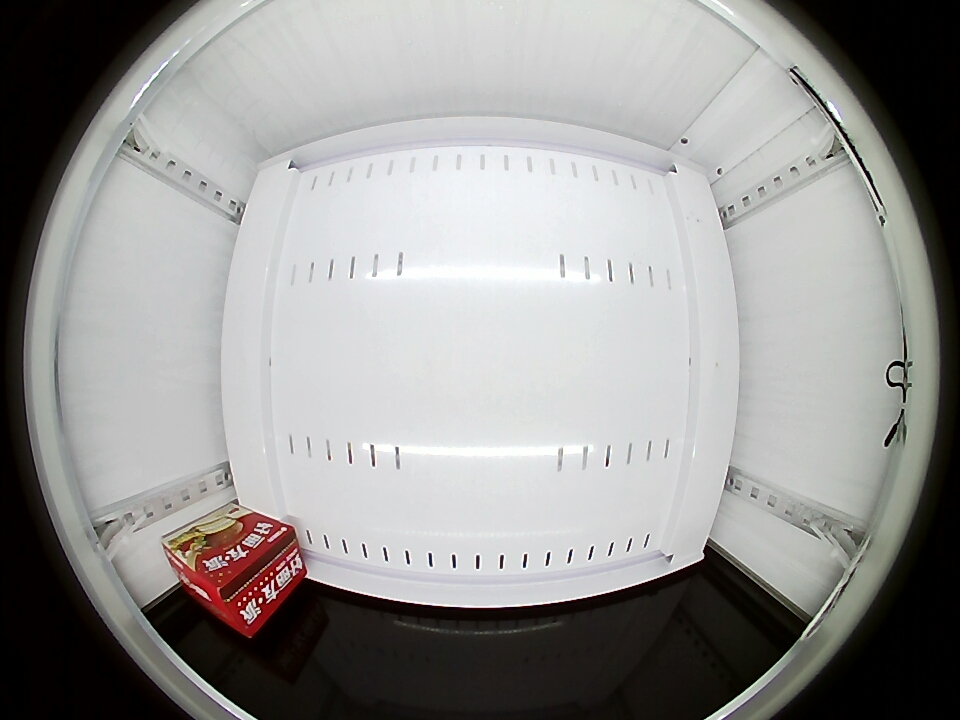haoliyou: (162, 527, 278, 638)
